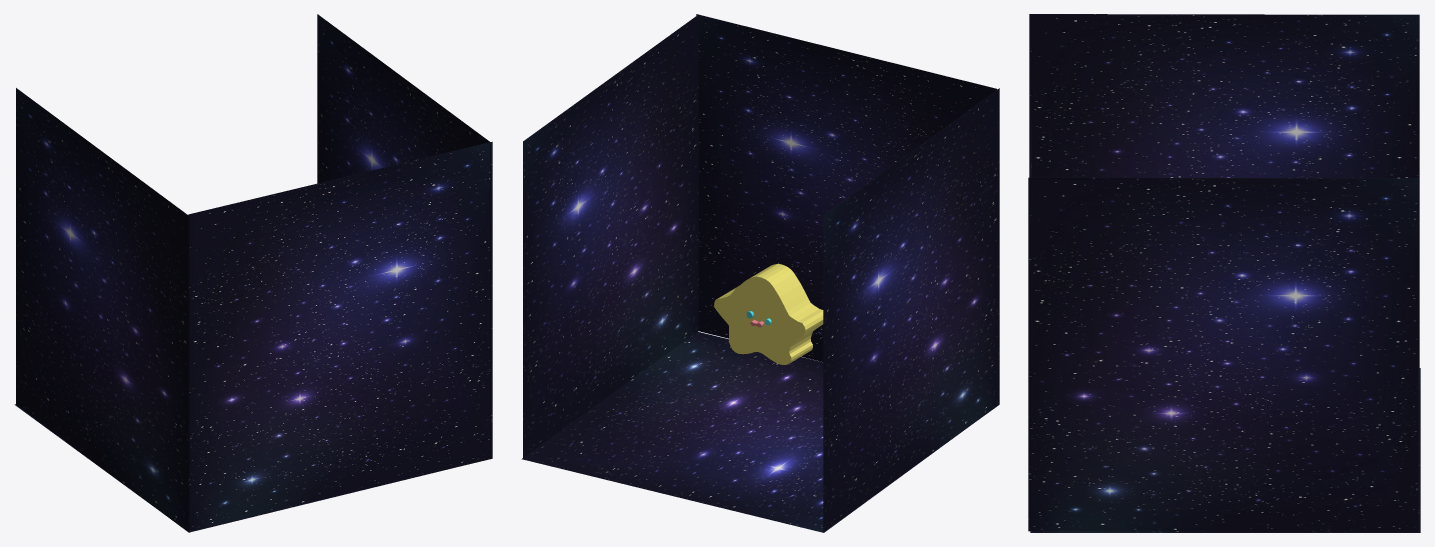
The model's file is star.glb.
3 views of the same model, side by side, from view 1: azimuth 30°, elevation 25°; view 2: azimuth 150°, elevation 25°; view 3: azimuth 270°, elevation 25° (orthographic). The views are drawn at different scales.
Visible parts, largest first — view 1: Plane.002, Plane.007, Plane.004; view 2: Plane.007, Plane.004, Plane.002, Plane.003, Plane; view 3: Plane.004, Plane.007, Plane.003.
Part boxes in pixels (x1,y1,x2,y2): Plane.002: (188,141,492,530); Plane.007: (16,88,189,532); Plane.004: (317,14,490,458); Plane.007: (823,88,999,531); Plane.004: (523,14,698,457); Plane.002: (696,14,997,361); Plane.003: (521,332,948,532); Plane: (714,263,823,364); Plane.004: (1028,177,1418,532); Plane.007: (1029,14,1419,368); Plane.003: (1030,368,1420,532).
Bounding box in the file's own units: 12.02 × 12.01 × 12.06.
10 materials, 6 textured.
